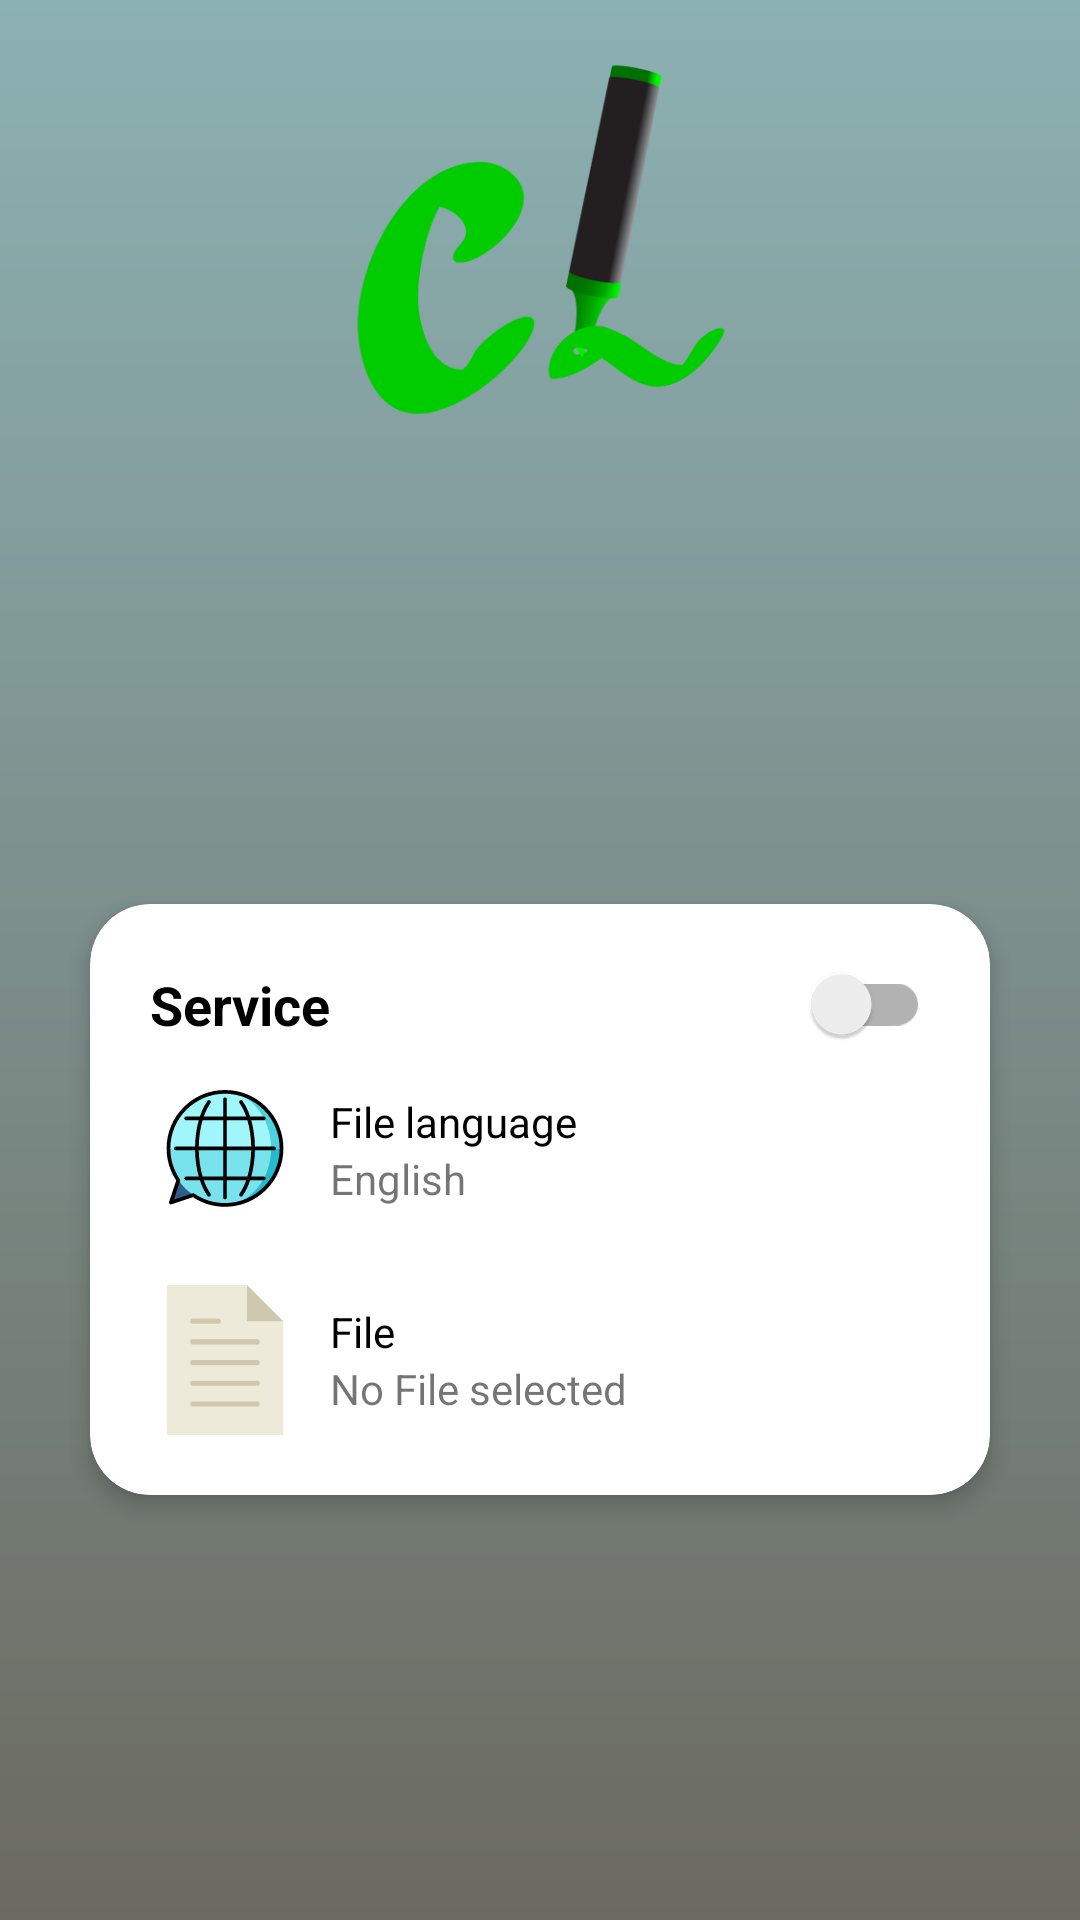

Screen size 1080×1920. Icon name, then its center in pixels as (x=x, y=y):
translation: (x=225, y=1148)
